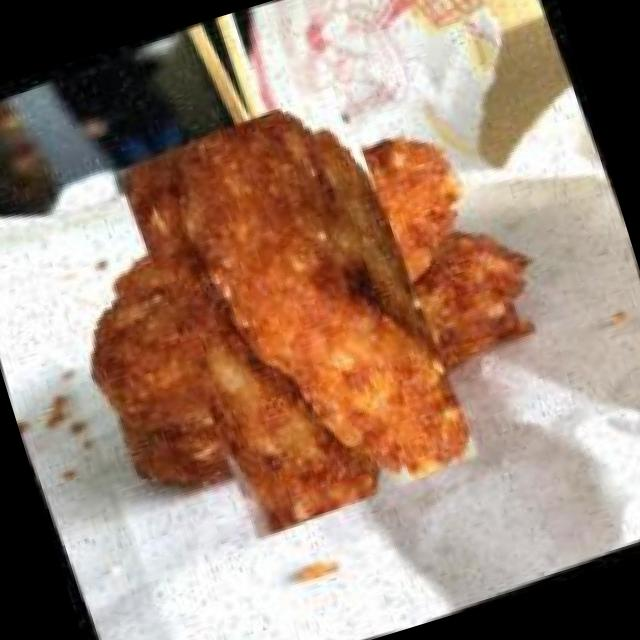triangle_hash_brown: (71, 86, 522, 536)
